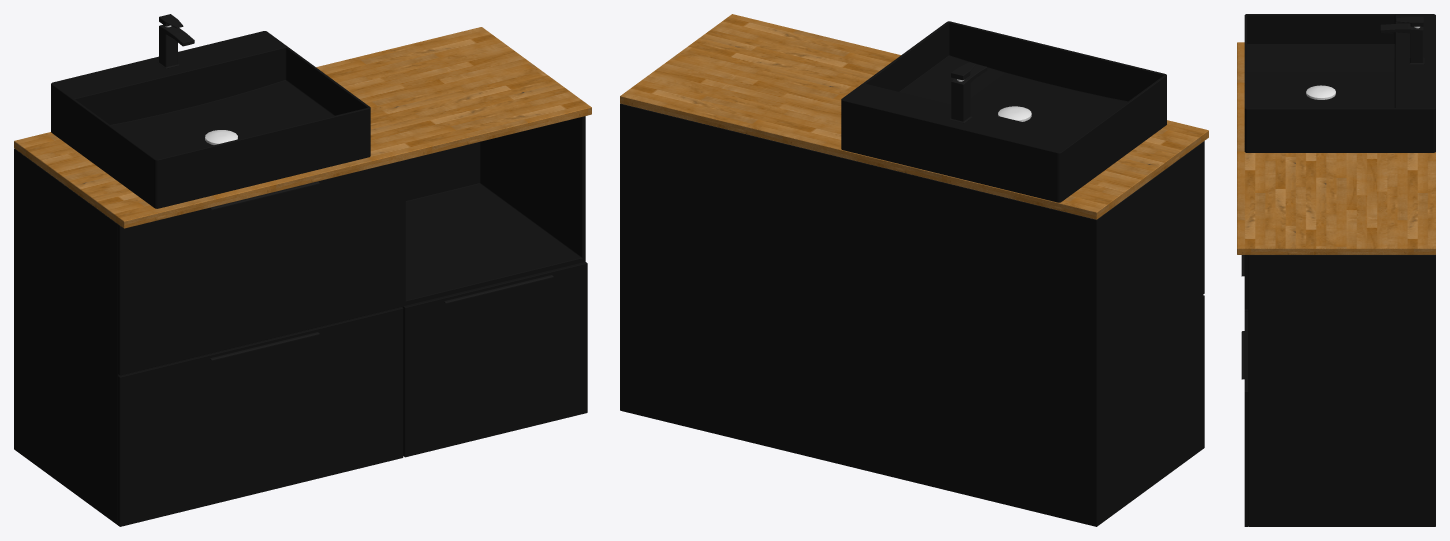
The model's file is sink-full-scene.glb.
3 views of the same model, side by side, from view 1: azimuth 30°, elevation 25°; view 2: azimuth 150°, elevation 25°; view 3: azimuth 270°, elevation 25° (orthographic). The views are drawn at different scales.
Parts seen in each view (by area): view 1: Main, Sink, Table, Handles, Tap; view 2: Main, Sink, Table, Tap; view 3: Main, Sink, Table, Tap, Drain, Handles.
Part boxes in pixels (bbox=[...]): Main: bbox=[14, 116, 587, 526]; Sink: bbox=[51, 31, 370, 208]; Table: bbox=[14, 27, 591, 228]; Handles: bbox=[210, 181, 553, 360]; Tap: bbox=[157, 14, 194, 68]; Main: bbox=[620, 103, 1204, 526]; Sink: bbox=[841, 21, 1166, 202]; Table: bbox=[620, 14, 1208, 219]; Tap: bbox=[949, 62, 987, 123]; Main: bbox=[1244, 255, 1435, 526]; Sink: bbox=[1244, 14, 1435, 152]; Table: bbox=[1237, 42, 1435, 254]; Tap: bbox=[1380, 17, 1424, 64]; Drain: bbox=[1306, 85, 1335, 99]; Handles: bbox=[1241, 255, 1244, 379].
Bounding box in the file's own units: 1.3 × 1.07 × 0.53.
4 materials, 1 textured.
